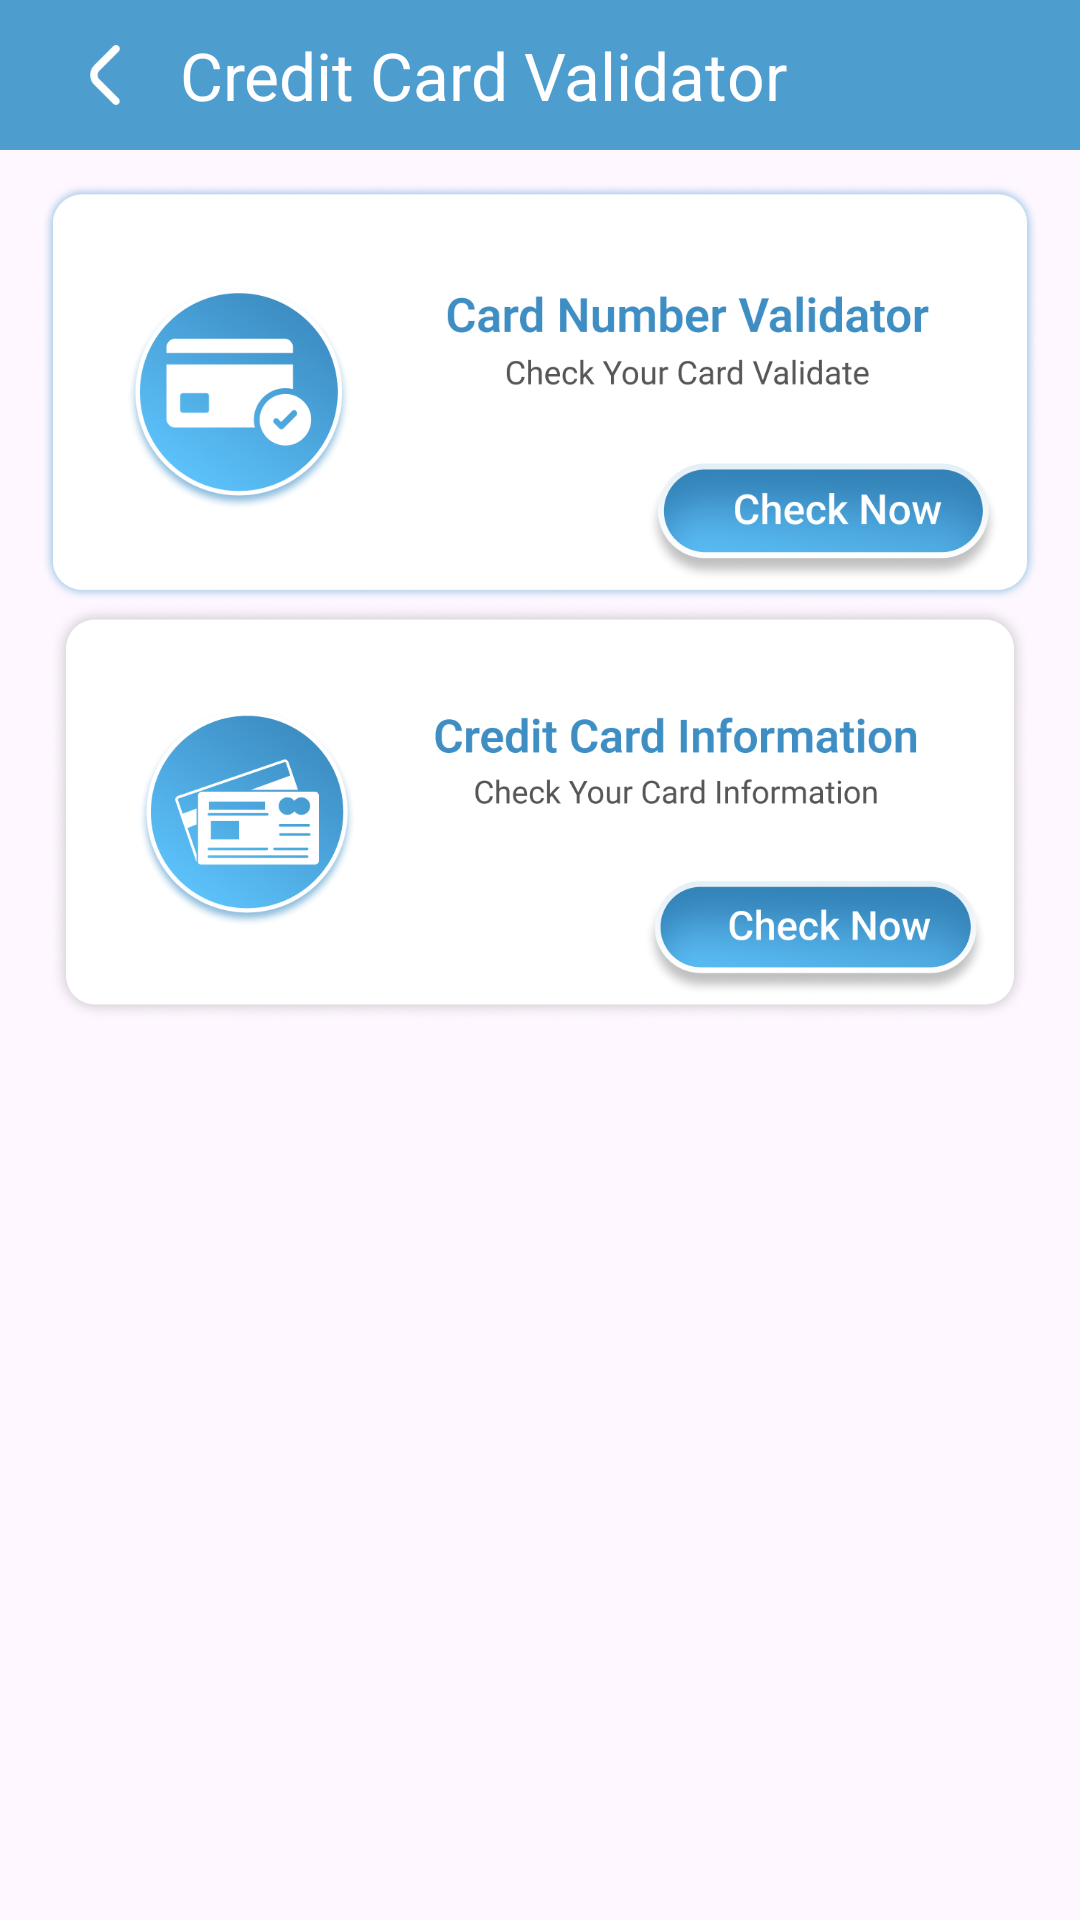

Point at icon controls on the screen. Image size 1080w x 1920h, points as point (x, y).
back: point (105, 75)
